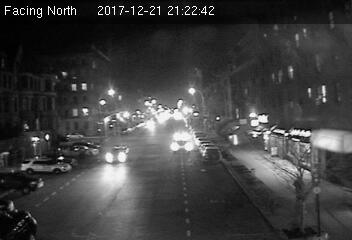car: (105, 144, 131, 163), (170, 139, 195, 153)
